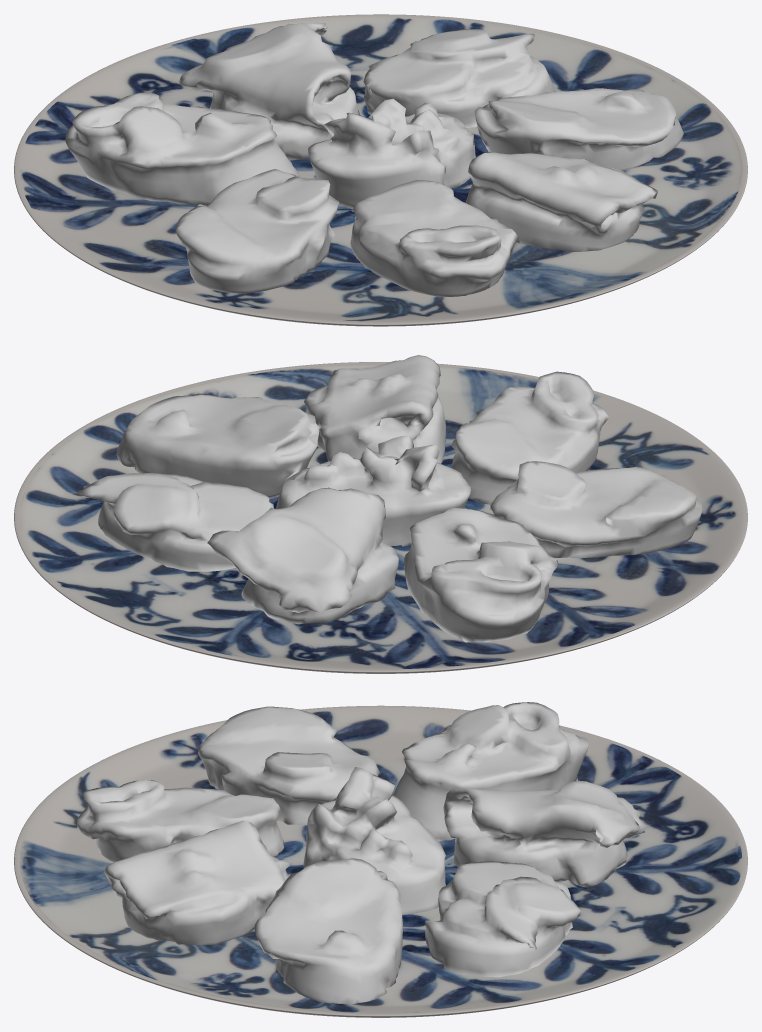
The picture shows the model from 3 angles, top to bottom: view 1: azimuth 30°, elevation 25°; view 2: azimuth 150°, elevation 25°; view 3: azimuth 270°, elevation 25°; orthographic projection.
Visible parts, largest first — view 1: LOW, plate; view 2: LOW, plate; view 3: LOW, plate.
Part boxes in pixels (x1=…): LOW: x1=65, y1=23, x2=683, y2=296; plate: x1=14, y1=14, x2=747, y2=326; LOW: x1=73, y1=355, x2=702, y2=642; plate: x1=14, y1=362, x2=747, y2=673; LOW: x1=77, y1=702, x2=647, y2=1004; plate: x1=14, y1=705, x2=747, y2=1017.
Size of the model in its own units: 0.396 by 0.0539 by 0.396.
